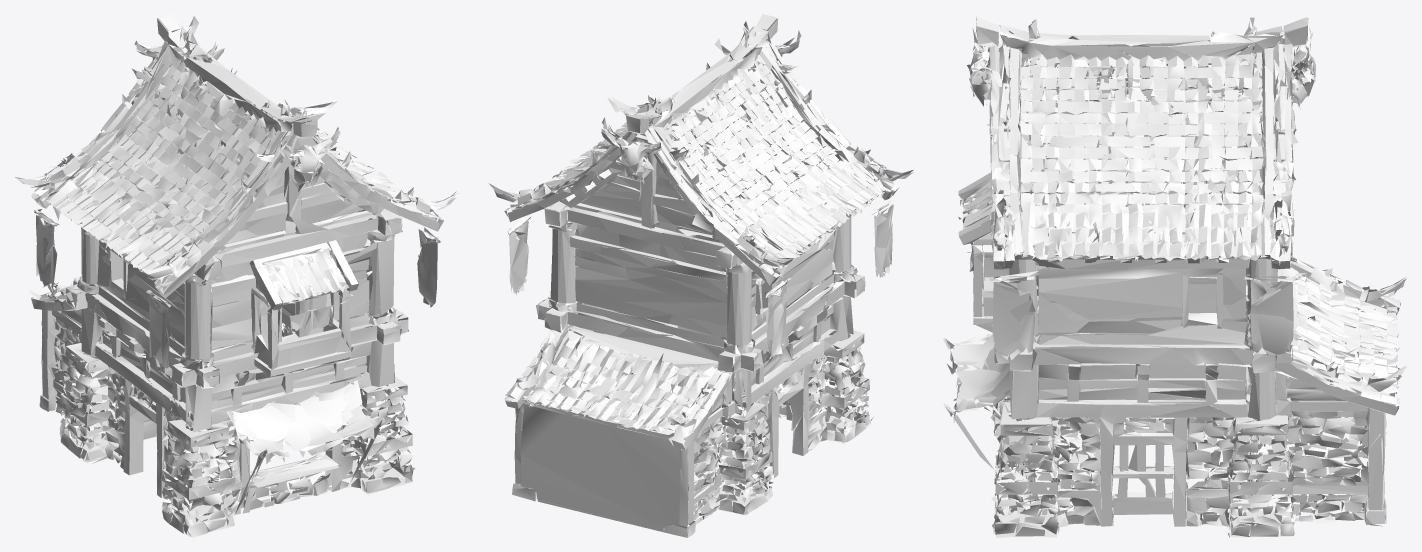
The model's file is house_bal_c_lod1.glb.
3 views of the same model, side by side, from view 1: azimuth 30°, elevation 25°; view 2: azimuth 150°, elevation 25°; view 3: azimuth 270°, elevation 25° (orthographic). The views are drawn at different scales.
Parts seen in each view (by area): view 1: house_bal_c; view 2: house_bal_c; view 3: house_bal_c.
Boxes of the visible parts, x1=… form: house_bal_c: x1=15, y1=14, x2=457, y2=537; house_bal_c: x1=488, y1=14, x2=913, y2=537; house_bal_c: x1=943, y1=16, x2=1406, y2=537.
Size of the model in its own units: 8.48 by 10.11 by 9.23.
1 material, 1 textured.
